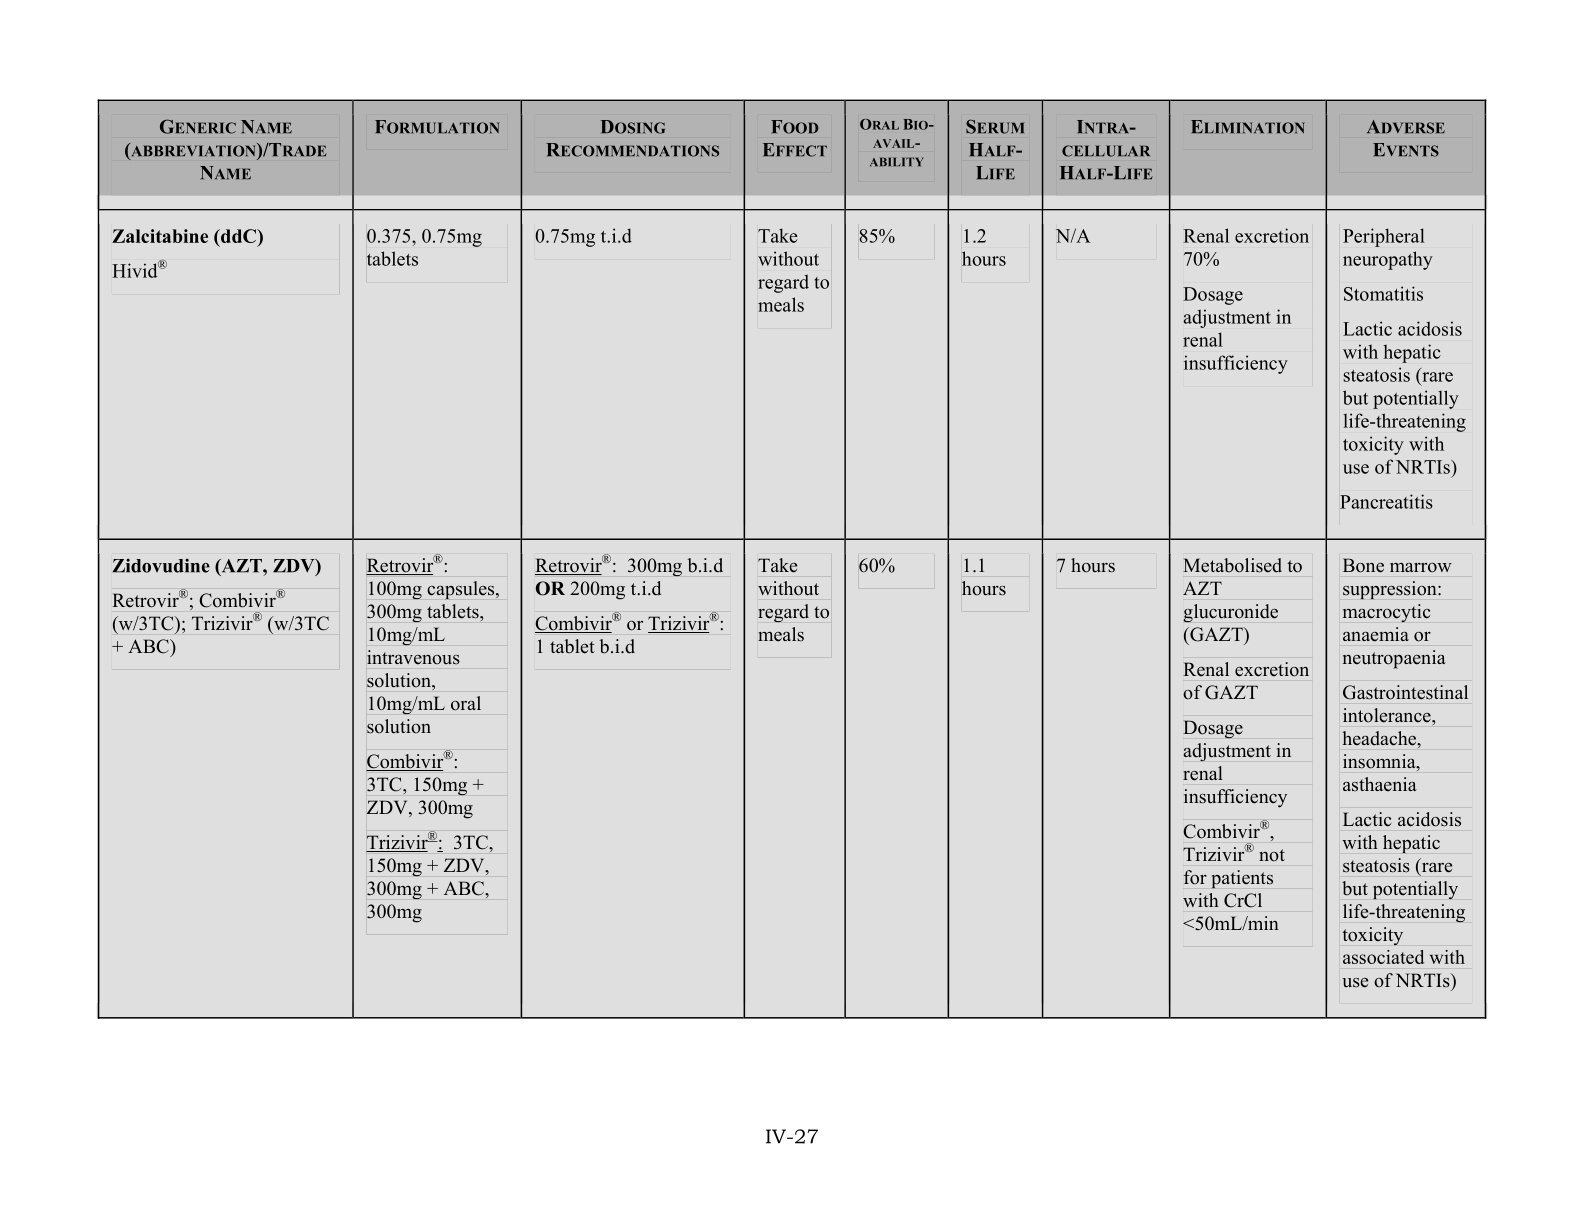full_lined: (96, 98, 1488, 1020)
